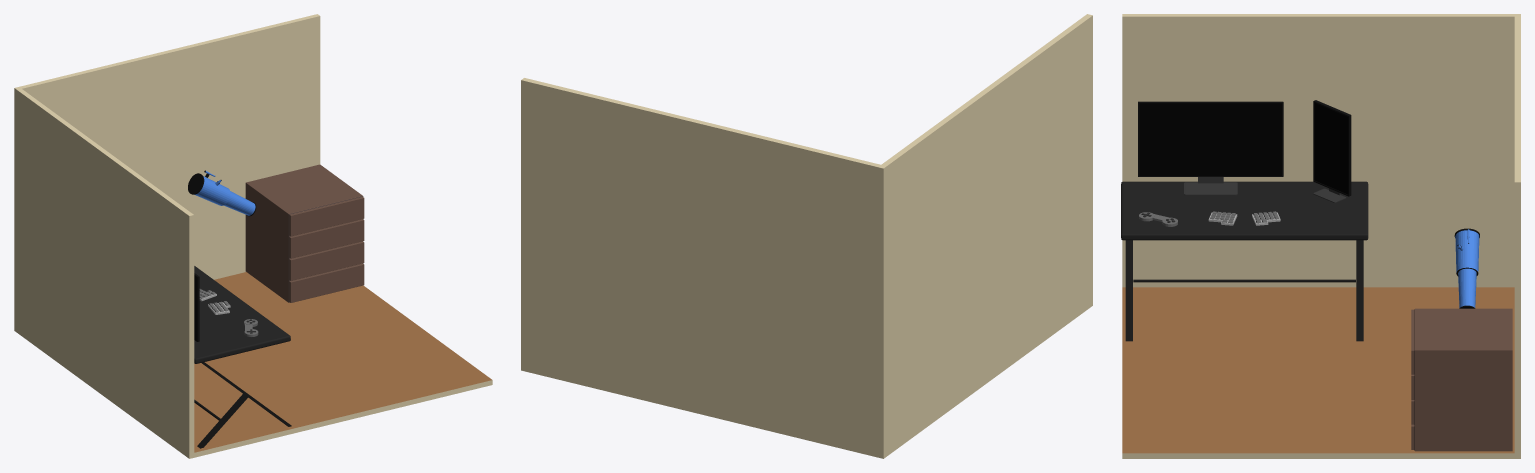
Rendered from portfolio_room.glb.
3 renders of one model, left to right at view 1: azimuth 30°, elevation 25°; view 2: azimuth 150°, elevation 25°; view 3: azimuth 270°, elevation 25°, orthographic. The views are drawn at different scales.
Visible parts, largest first — view 1: Room, Drawer, Table Top, Telescope; view 2: Room; view 3: Room, Drawer, Table Top, Monitor 1, Monitor 2, Telescope, Table Leg, Table Strut, Monitor 1 Stand.001.
Part boxes in pixels (bbox=[...]): Room: bbox=[14, 14, 492, 458]; Drawer: bbox=[245, 164, 364, 302]; Table Top: bbox=[194, 266, 290, 363]; Telescope: bbox=[188, 170, 256, 216]; Room: bbox=[521, 14, 1092, 458]; Room: bbox=[1122, 14, 1520, 458]; Drawer: bbox=[1411, 308, 1512, 451]; Table Top: bbox=[1121, 181, 1368, 240]; Monitor 1: bbox=[1138, 101, 1283, 176]; Monitor 2: bbox=[1313, 100, 1351, 196]; Telescope: bbox=[1454, 228, 1479, 308]; Table Leg: bbox=[1125, 240, 1363, 341]; Table Strut: bbox=[1133, 279, 1355, 282]; Monitor 1 Stand.001: bbox=[1184, 182, 1237, 195].
Bounding box in the file's own units: 8.13 × 6.22 × 8.15.
